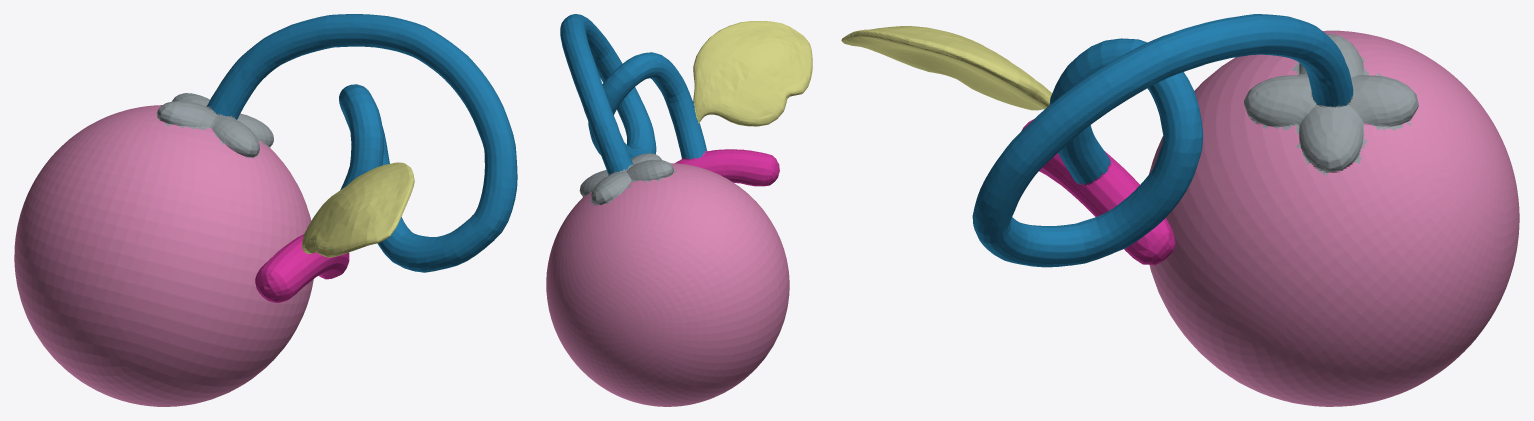
3 views of the same model, side by side, from view 1: azimuth 30°, elevation 25°; view 2: azimuth 150°, elevation 25°; view 3: azimuth 270°, elevation 25° (orthographic). The views are drawn at different scales.
Parts seen in each view (by area): view 1: world; view 2: world; view 3: world.
Part boxes in pixels (box(x1,y1,x2,y2)): world: box(14, 14, 517, 406); world: box(546, 14, 812, 406); world: box(841, 14, 1519, 406).
Size of the model in its own units: 1.44 by 1.44 by 1.91.
